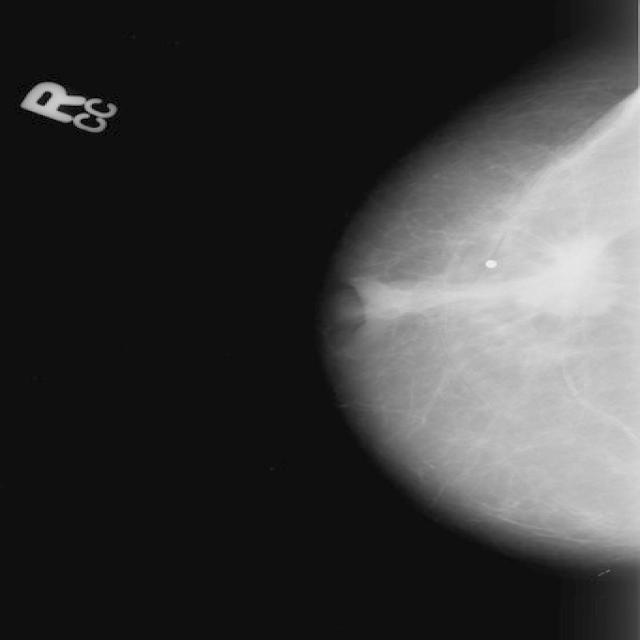tumour: (526, 235, 616, 316)
